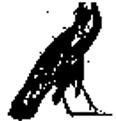Owl: (5, 2, 109, 120)
